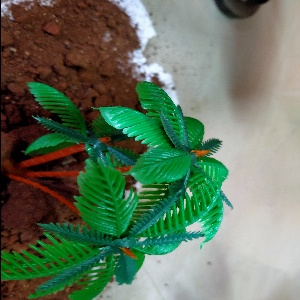plant: (3, 79, 238, 300)
